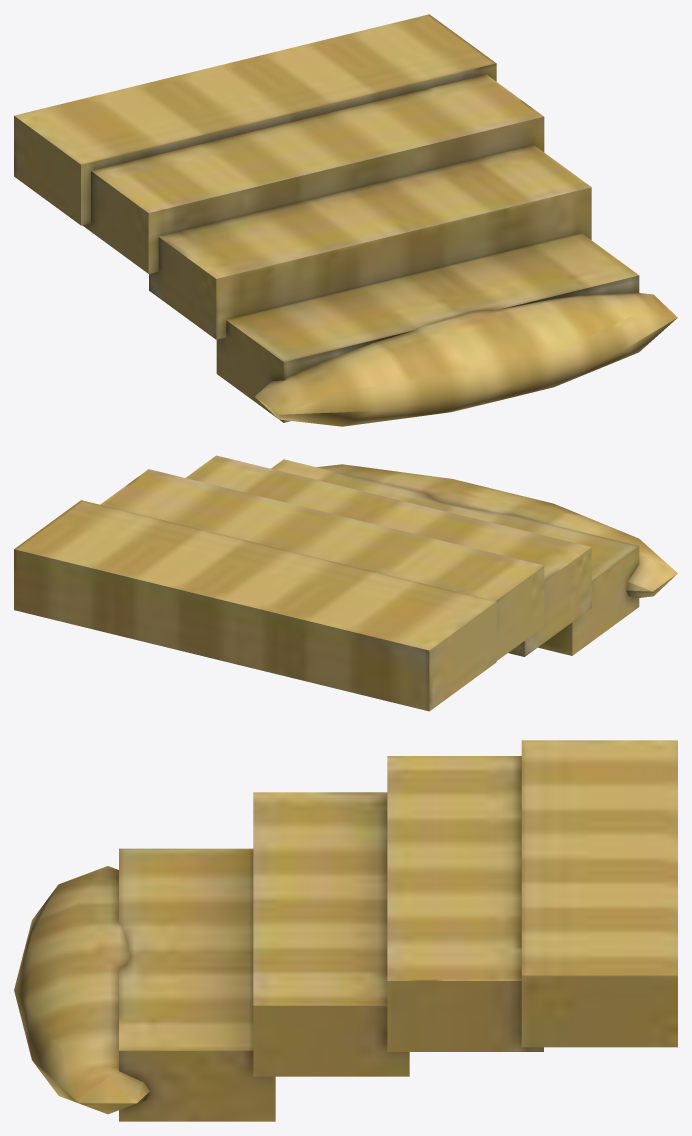
The model's file is tupe_viento.glb.
3 renders of one model, top to bottom at view 1: azimuth 30°, elevation 25°; view 2: azimuth 150°, elevation 25°; view 3: azimuth 270°, elevation 25°, orthographic. The views are drawn at different scales.
Visible parts, largest first — view 1: tupe_viento; view 2: tupe_viento; view 3: tupe_viento.
Part boxes in pixels (x1,y1,x2,y2): tupe_viento: [14, 14, 677, 426]; tupe_viento: [14, 455, 677, 711]; tupe_viento: [14, 740, 677, 1121].
Bounding box in the file's own units: 0.25 × 0.0866 × 0.297.
Materials: 1 (1 with a texture image).
